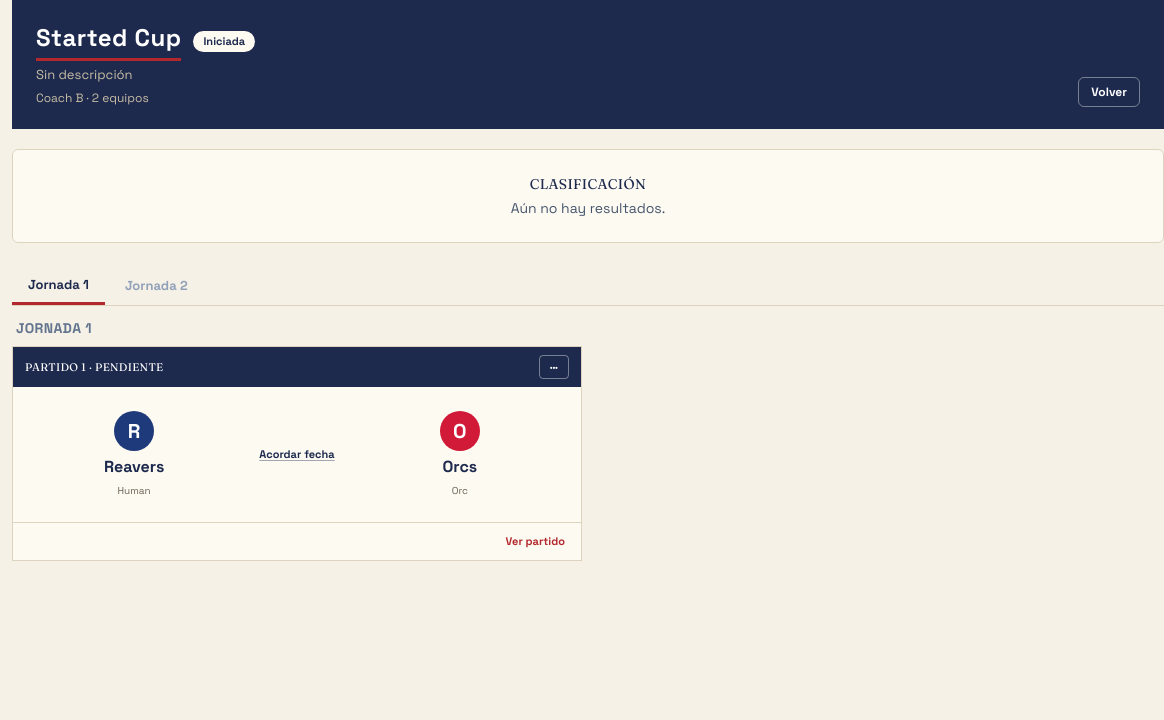
Test: LeagueDetail — LAC-5 owner-equivalent controls › shows the owner-only forfeit control to a developer on a foreign STARTED league
expect the element named "Jornada 1" is shown: met, box x1=12 y1=346 x2=582 y2=560
# MAW-1: the forfeit entry point lives in the `···` overflow of the jornada card.
Click the button named "Más acciones".
click(554, 367)  # box x1=539 y1=355 x2=569 y2=379
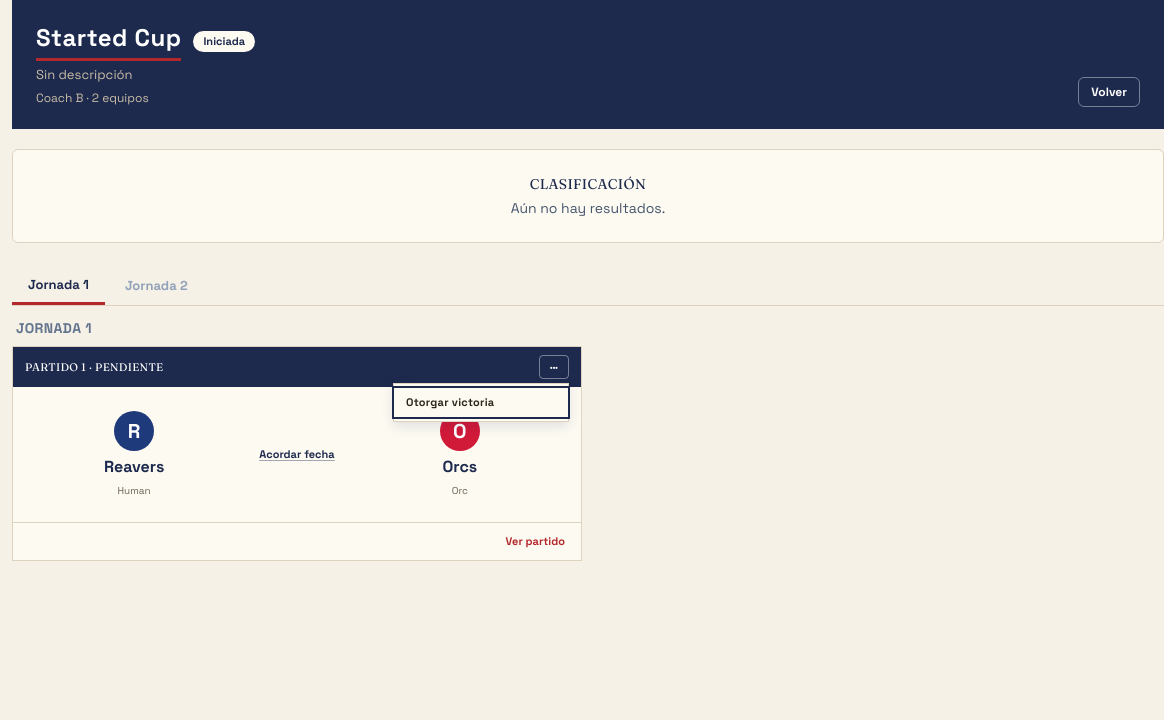
expect the menu item "Otorgar victoria" is shown: met, box x1=394 y1=388 x2=568 y2=416
